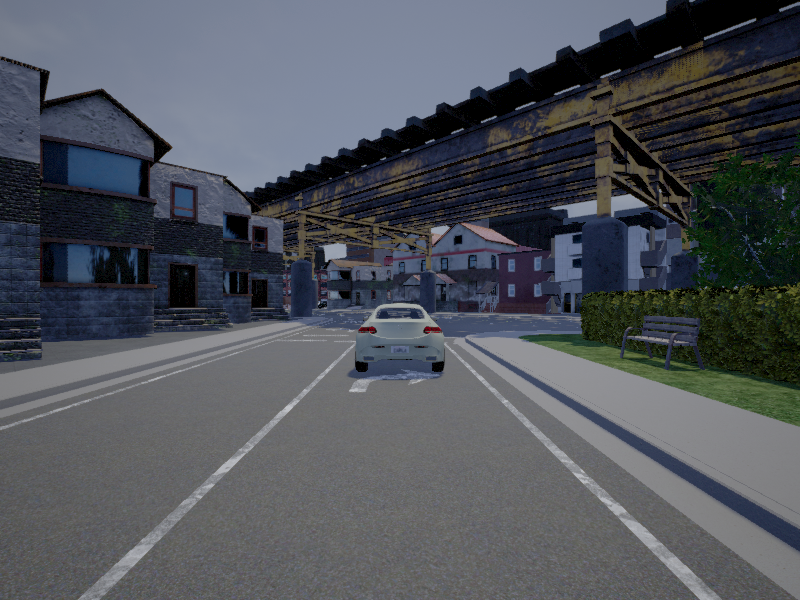Benign: (355, 306, 447, 370)
